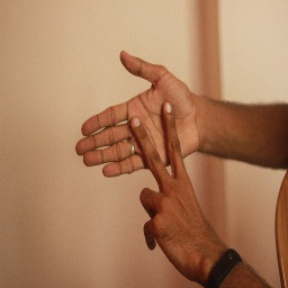N: (68, 47, 209, 233)
